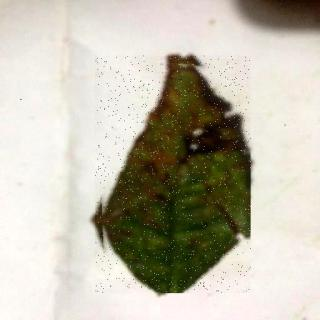Red Leaf Spot: (96, 57, 252, 294)
